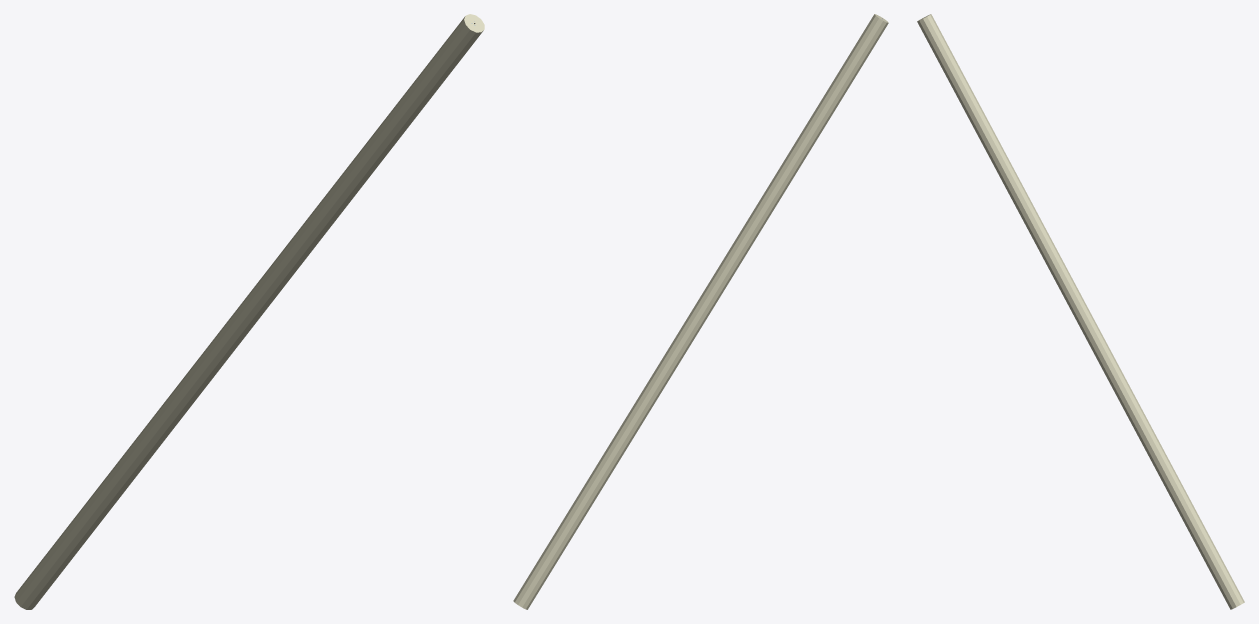
File: tile_241.glb
The picture shows the model from 3 angles, left to right: view 1: azimuth 90°, elevation 25°; view 2: azimuth 150°, elevation 25°; view 3: azimuth 270°, elevation 25°; orthographic projection. The views are drawn at different scales.
Size of the model in its own units: 3.56 by 8.42 by 4.96.
